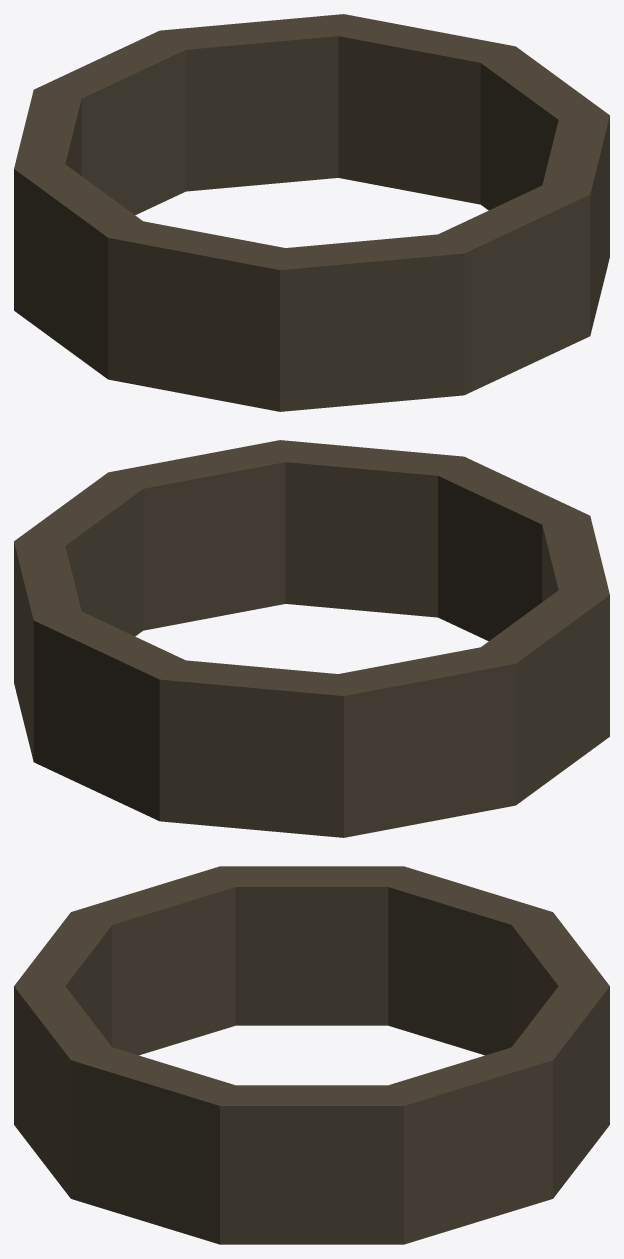
The model's file is ITRI_PROT_FIRE_01.OBJ.
3 views of the same model, one above another, from view 1: azimuth 30°, elevation 25°; view 2: azimuth 150°, elevation 25°; view 3: azimuth 270°, elevation 25° (orthographic). The views are drawn at different scales.
Parts seen in each view (by area): view 1: ITRI_PROT_FIRE_01; view 2: ITRI_PROT_FIRE_01; view 3: ITRI_PROT_FIRE_01.
Boxes of the visible parts, x1,y1,x2,y2 form: ITRI_PROT_FIRE_01: [14, 14, 609, 411]; ITRI_PROT_FIRE_01: [14, 440, 609, 837]; ITRI_PROT_FIRE_01: [14, 866, 609, 1244].
Bounding box in the file's own units: 0.0624 × 0.0169 × 0.0657.
